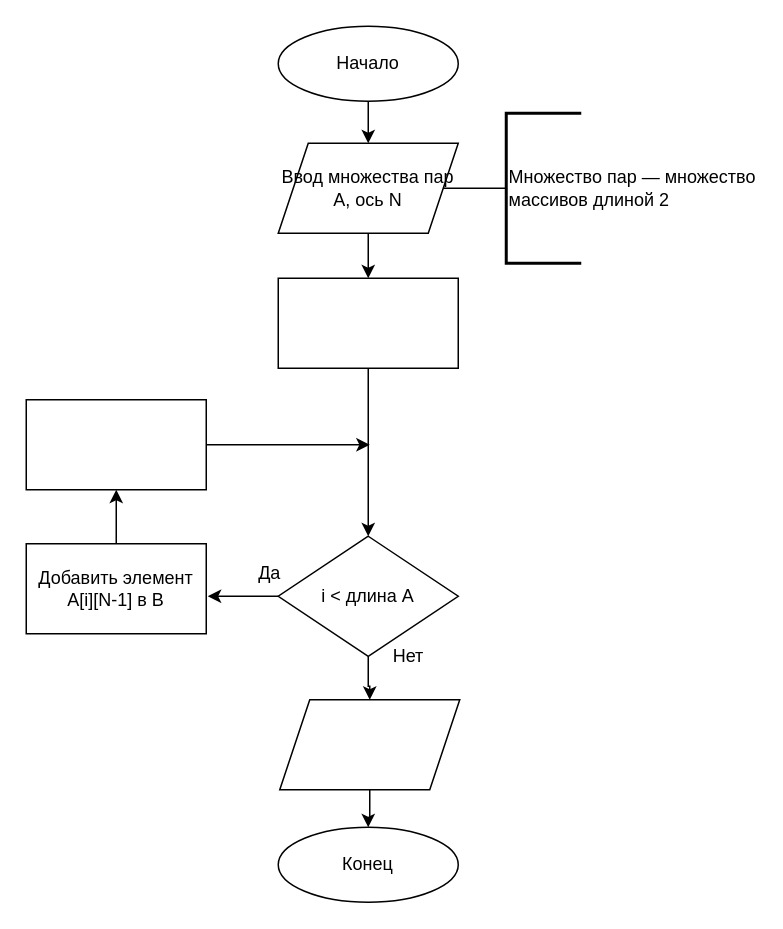
Some shapes in this 783 by 929 pixel diagram are drawn without their labels. The shapes that lost their labels are listed below. From the top down, each one's centre as x and y in pixels, then its label:
At (x=367, y=322): "Новое множество В; i = 0".
At (x=115, y=444): "i++".
At (x=369, y=744): "Вернуть В".
